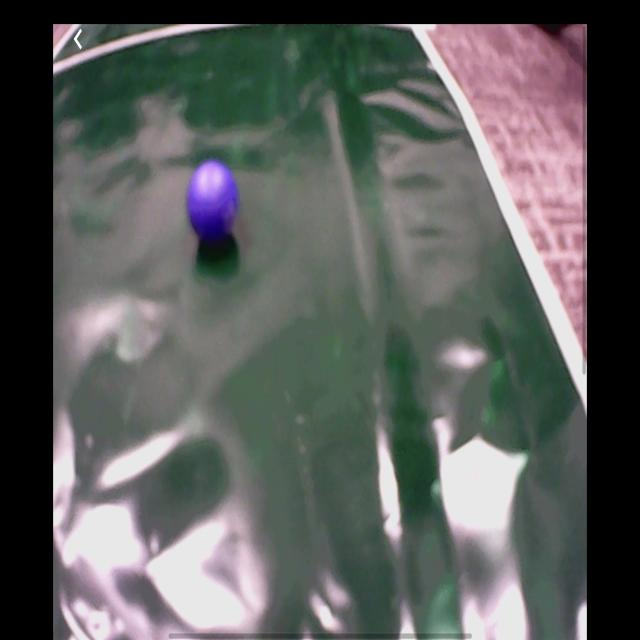ball: (188, 162, 240, 242)
